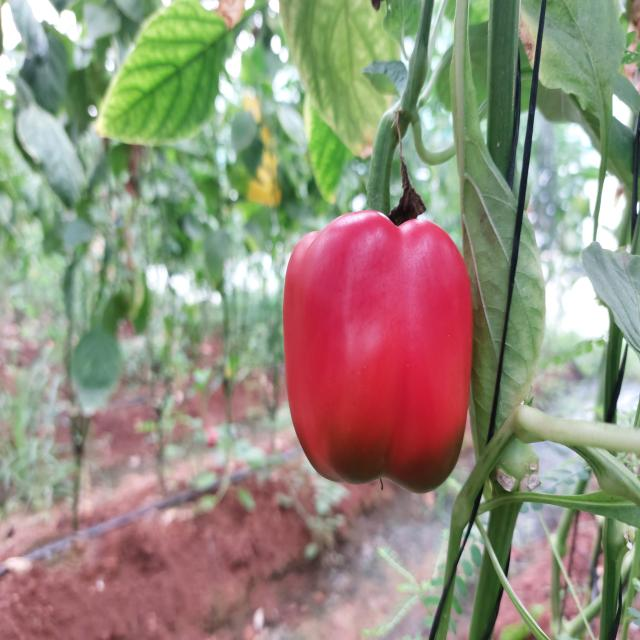Red-Ready-to-Harvest: (284, 208, 476, 491)
